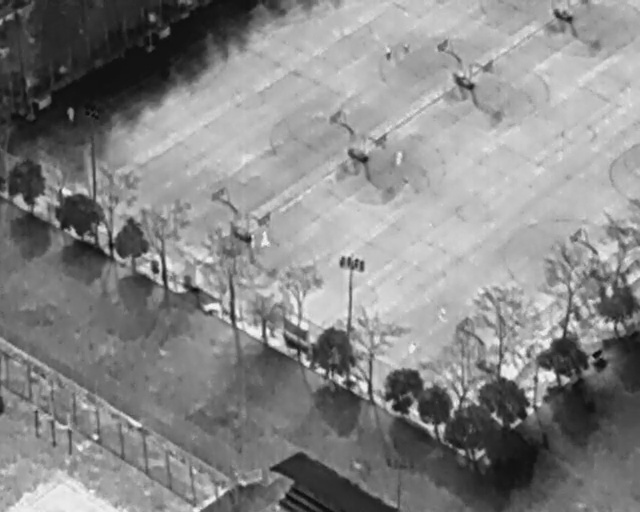Person: (260, 230, 271, 248), (438, 305, 448, 323), (394, 149, 404, 165), (384, 46, 393, 63), (66, 107, 75, 123), (402, 41, 411, 55)
